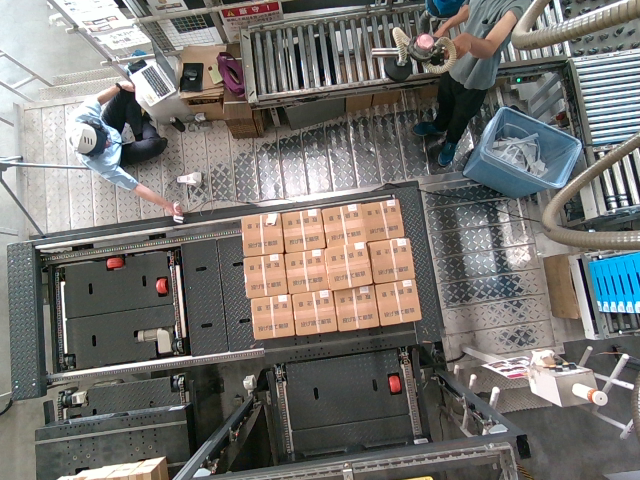box: (236, 211, 284, 257), (276, 208, 324, 254), (322, 203, 370, 249), (368, 236, 416, 282), (326, 245, 374, 291), (248, 295, 296, 341), (289, 289, 337, 335), (242, 253, 290, 299), (334, 284, 382, 330), (283, 250, 331, 296), (373, 279, 421, 325)
